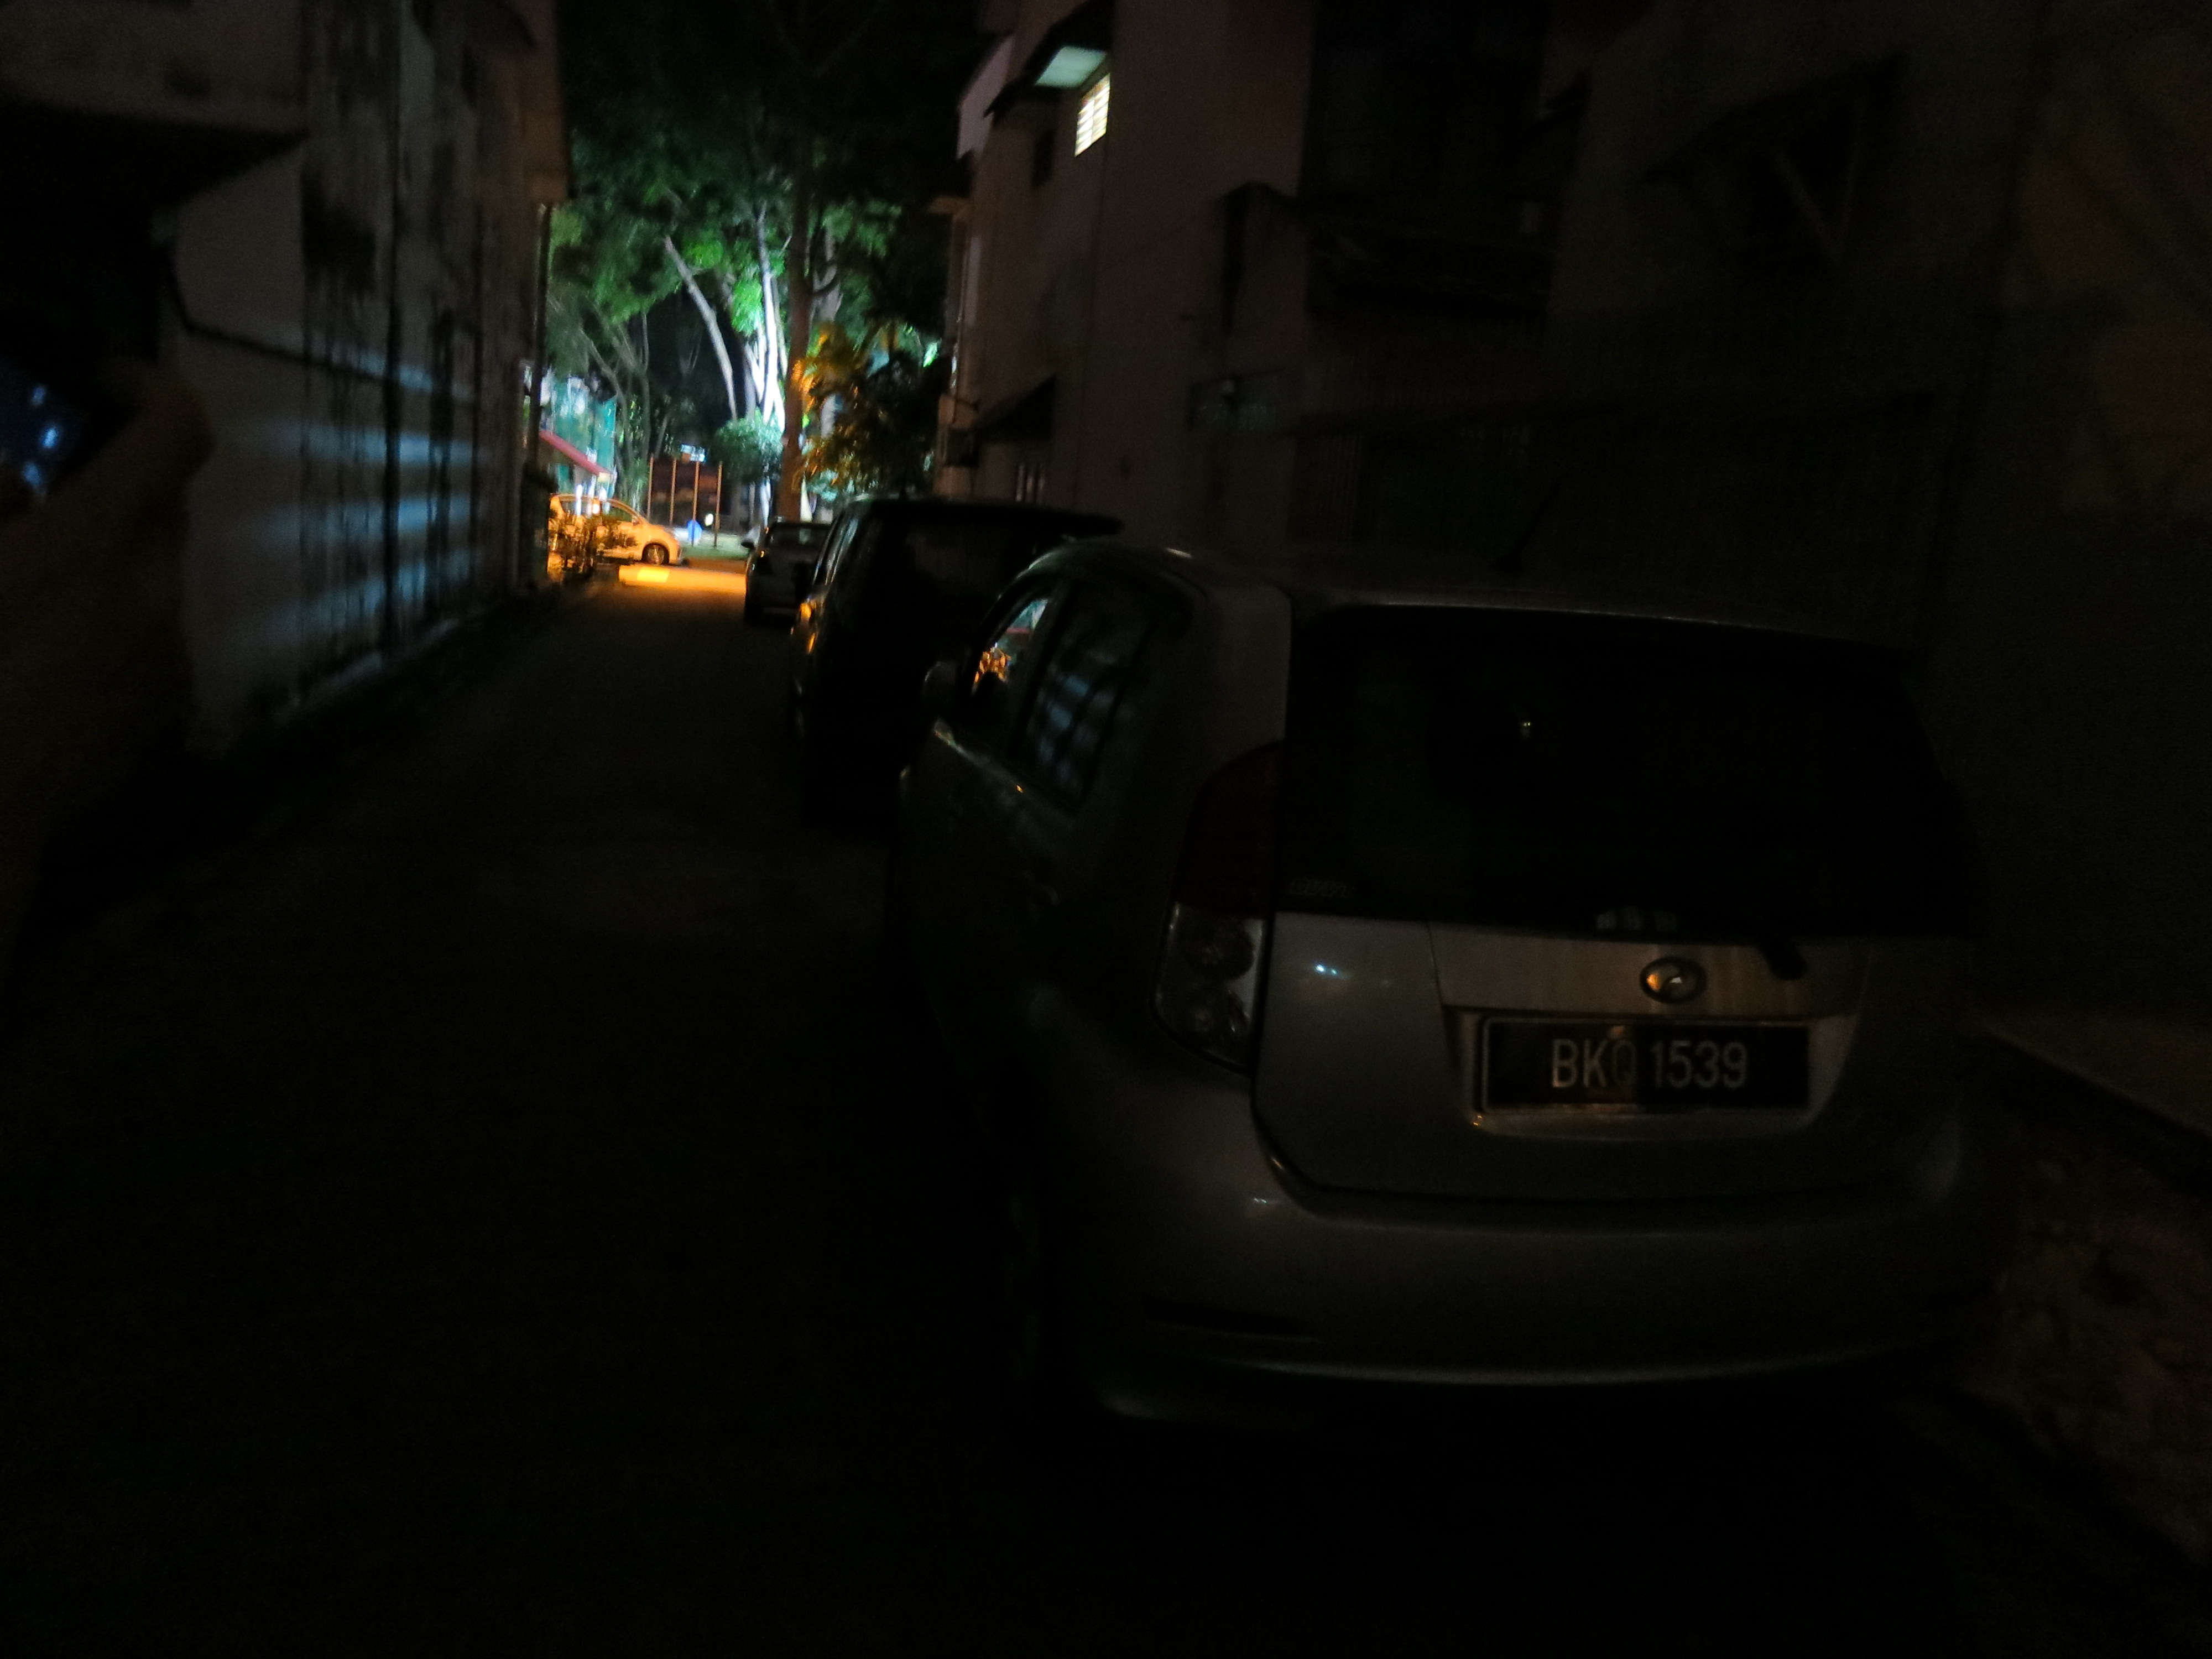car: (542, 490, 698, 573)
